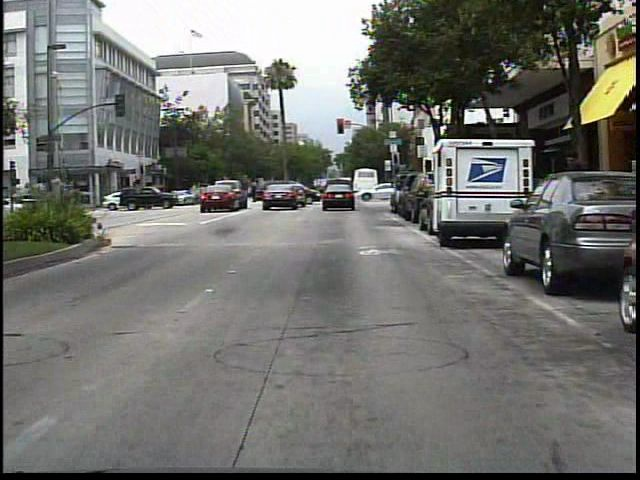person: (556, 147, 591, 251), (248, 181, 263, 206)
